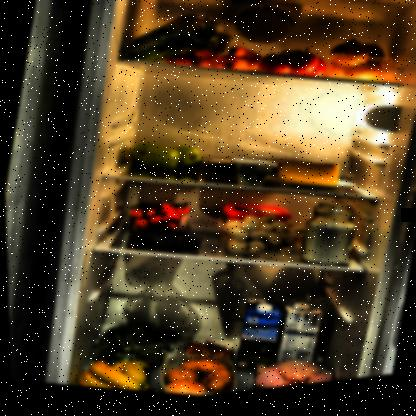apple: (125, 135, 210, 188)
banana: (70, 350, 161, 402)
blueberries: (130, 222, 201, 265)
butter: (220, 198, 293, 241)
carrot: (164, 36, 262, 86)
cheese: (271, 158, 343, 202)
chicken: (244, 354, 345, 394)
green_beans: (89, 309, 181, 381)
milk: (268, 303, 322, 388), (231, 300, 284, 381)
mushrooms: (212, 206, 308, 274)
onion: (324, 39, 392, 96)
potato: (156, 351, 236, 402)
shrimp: (177, 337, 231, 371)
spinach: (109, 0, 238, 85)
strawberries: (125, 198, 192, 242)
tomato: (257, 46, 331, 92)
